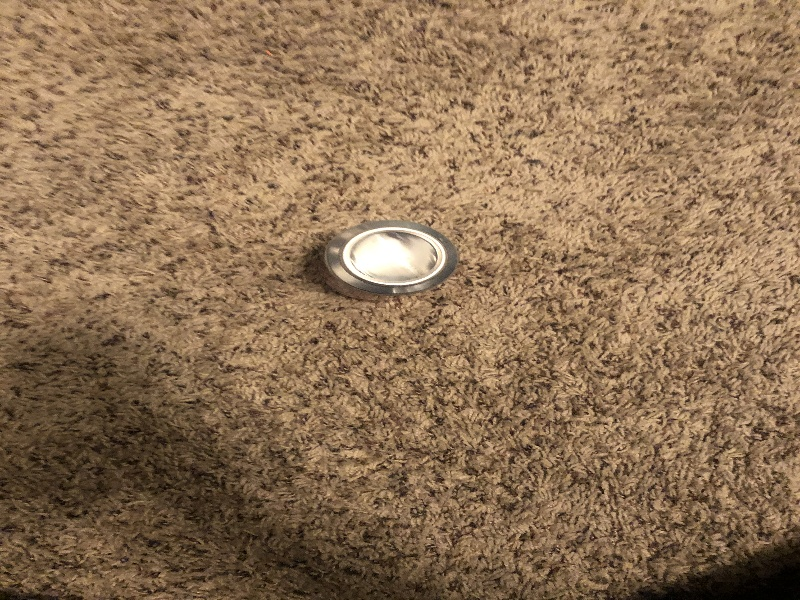metal: (311, 217, 468, 306)
